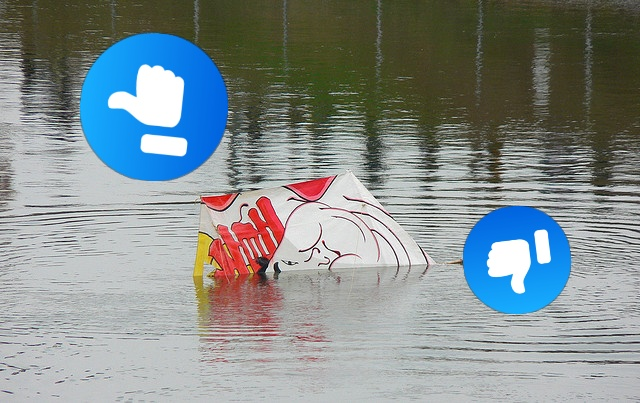like: (80, 33, 228, 181), (463, 206, 571, 314)
